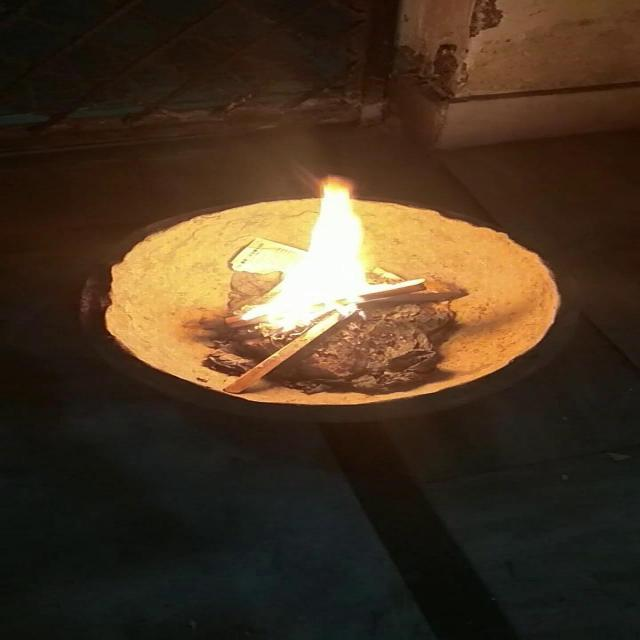fire: (199, 177, 379, 321)
